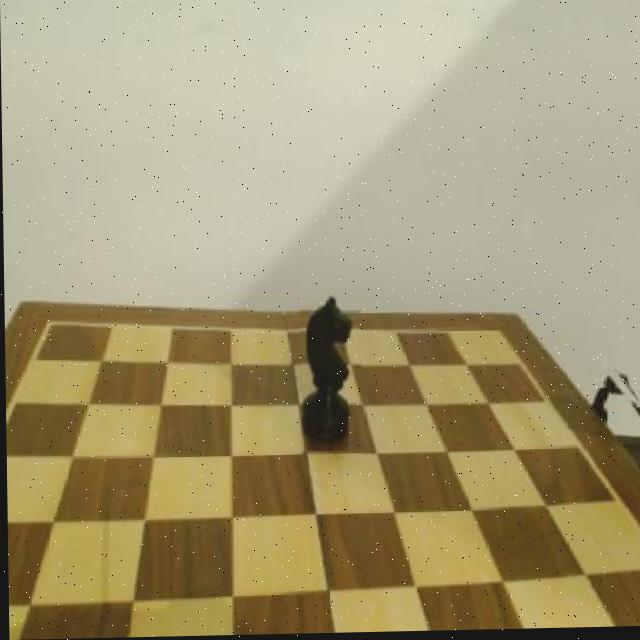black-king: (300, 291, 364, 459)
